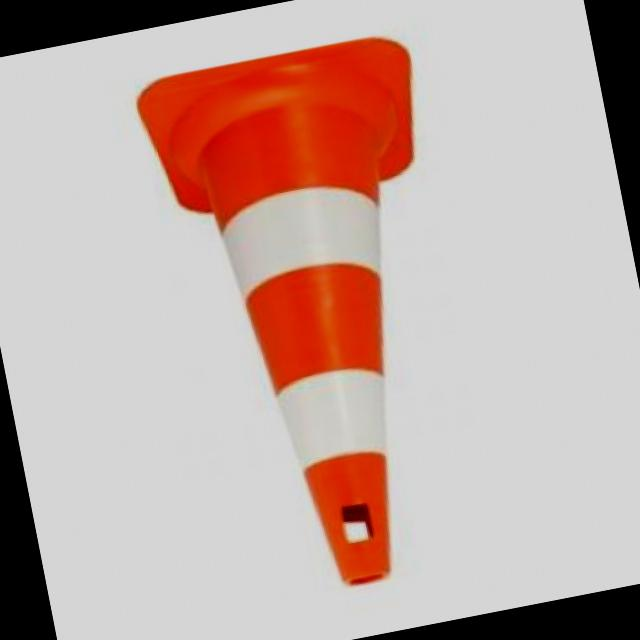cone: (133, 11, 504, 598)
